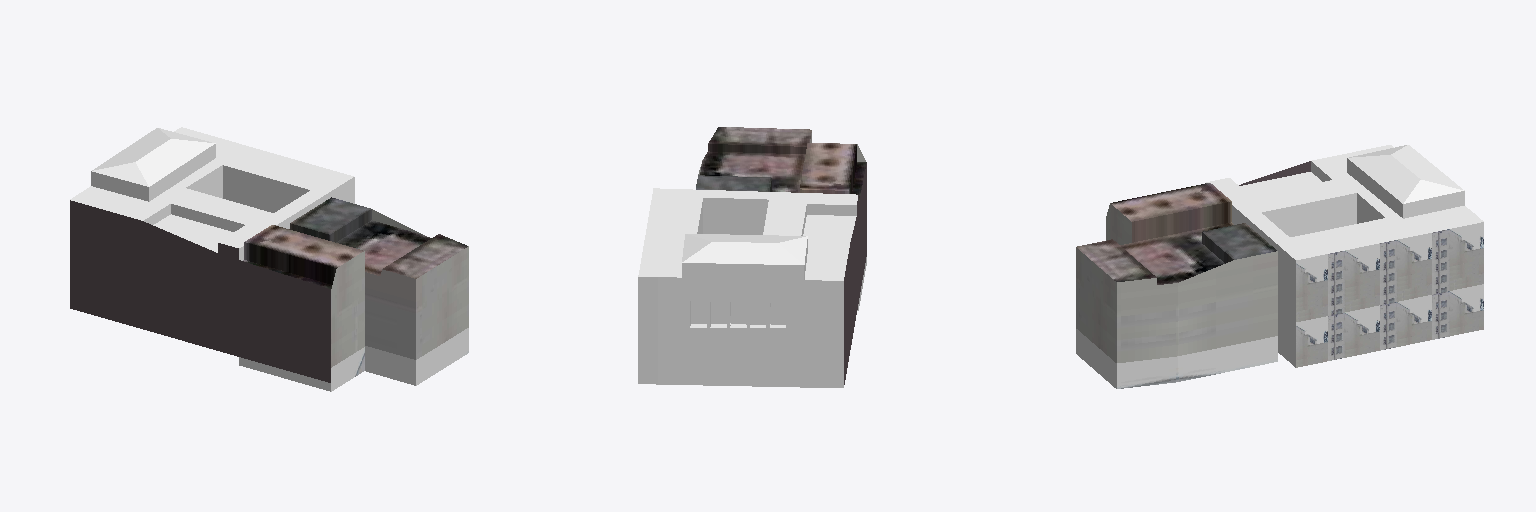
The picture shows the model from 3 angles: view 1: azimuth 30°, elevation 25°; view 2: azimuth 150°, elevation 25°; view 3: azimuth 270°, elevation 25°; orthographic projection.
Parts seen in each view (by area): view 1: Mesh1 Model; view 2: Mesh1 Model; view 3: Mesh1 Model.
Part boxes in pixels (x1,y1,x2,y2): Mesh1 Model: (70,127,468,391); Mesh1 Model: (638,127,866,387); Mesh1 Model: (1076,145,1483,388).
Bounding box in the file's own units: 4994 × 2526 × 6737.
Materials: 4 (2 with a texture image).